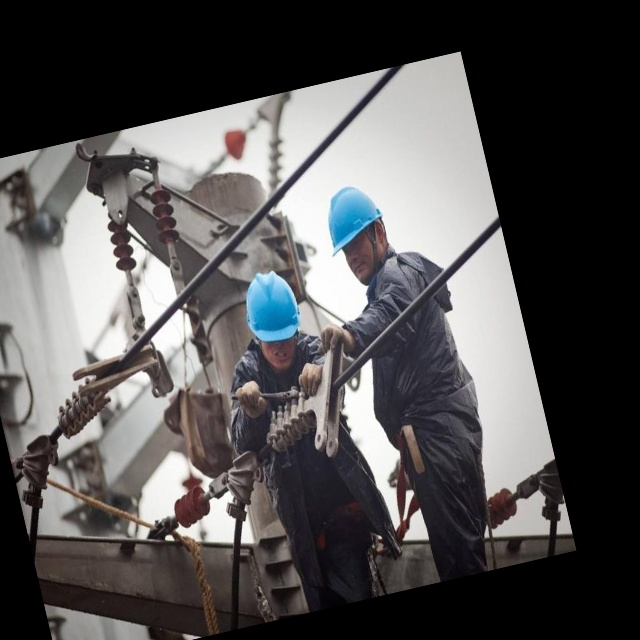Con_Casco: (321, 181, 395, 287), (239, 267, 310, 371)
